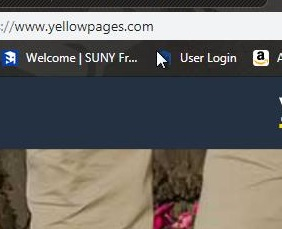cursor: (155, 50, 169, 69)
